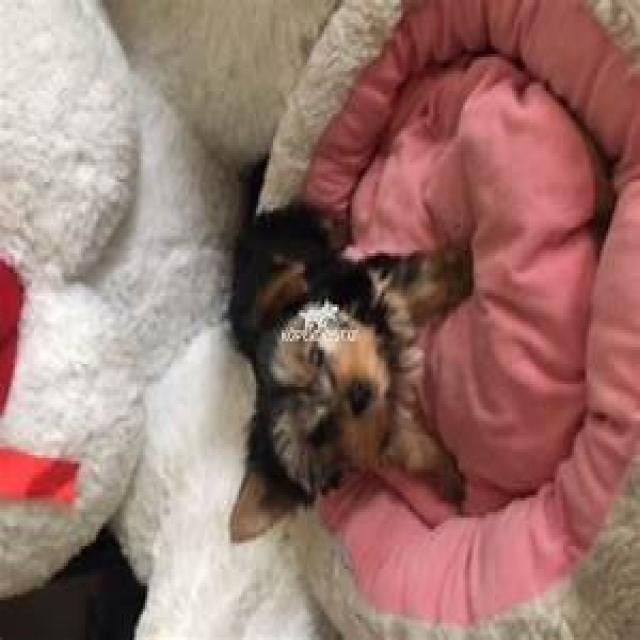dog: (230, 205, 470, 541)
